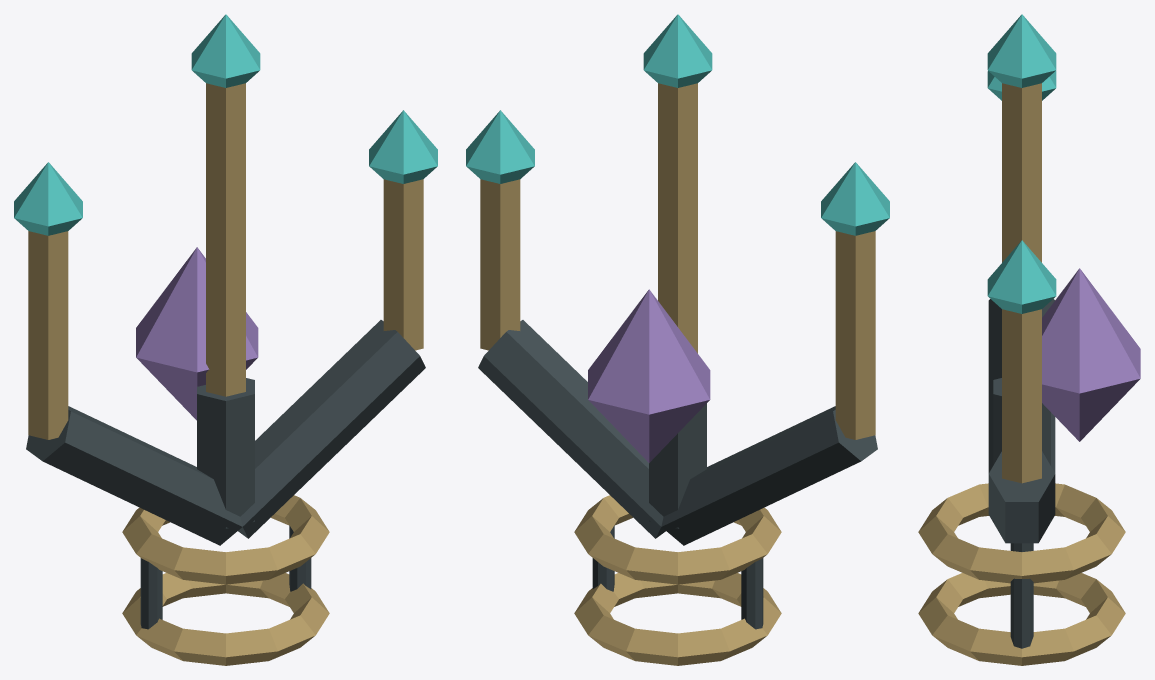
File: Equip_StormFork.fbx
3 renders of one model, left to right at view 1: azimuth 30°, elevation 25°; view 2: azimuth 150°, elevation 25°; view 3: azimuth 270°, elevation 25°, orthographic.
Parts seen in each view (by area): view 1: Equip_StormFork; view 2: Equip_StormFork; view 3: Equip_StormFork.
Boxes of the visible parts, left/top/right/bottom form: Equip_StormFork: left=14, top=14, right=437, bottom=665; Equip_StormFork: left=466, top=14, right=889, bottom=665; Equip_StormFork: left=918, top=14, right=1140, bottom=665.
Size of the model in its own units: 0.382 by 0.5302 by 0.1736.
